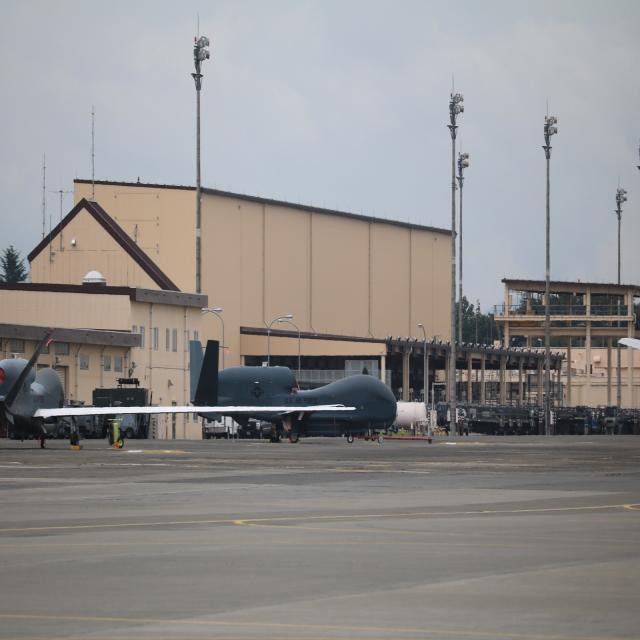MIL_Plane: (1, 327, 357, 449), (189, 339, 397, 444)
